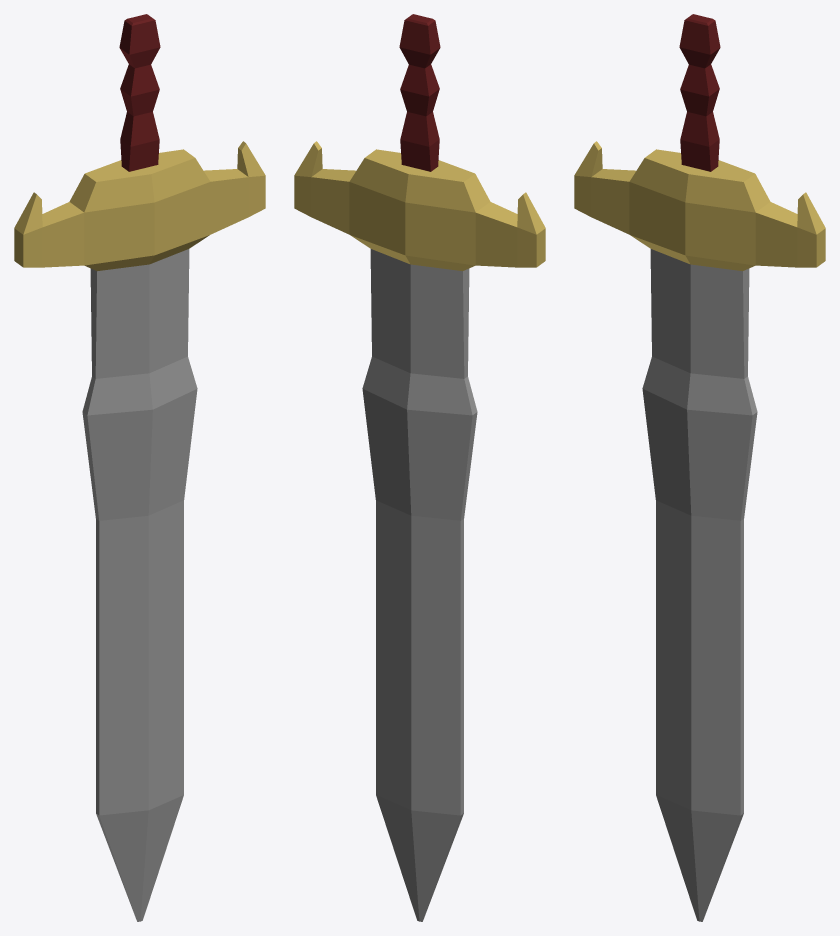
The model's file is Sword.fbx.
3 views of the same model, side by side, from view 1: azimuth 30°, elevation 25°; view 2: azimuth 150°, elevation 25°; view 3: azimuth 330°, elevation 25° (orthographic).
Parts seen in each view (by area): view 1: Sword; view 2: Sword; view 3: Sword.
Part boxes in pixels (left/top/right/bottom): Sword: left=14, top=14, right=265, bottom=921; Sword: left=294, top=14, right=545, bottom=921; Sword: left=574, top=14, right=825, bottom=921.
Size of the model in its own units: 22.49 by 79.99 by 4.69.
